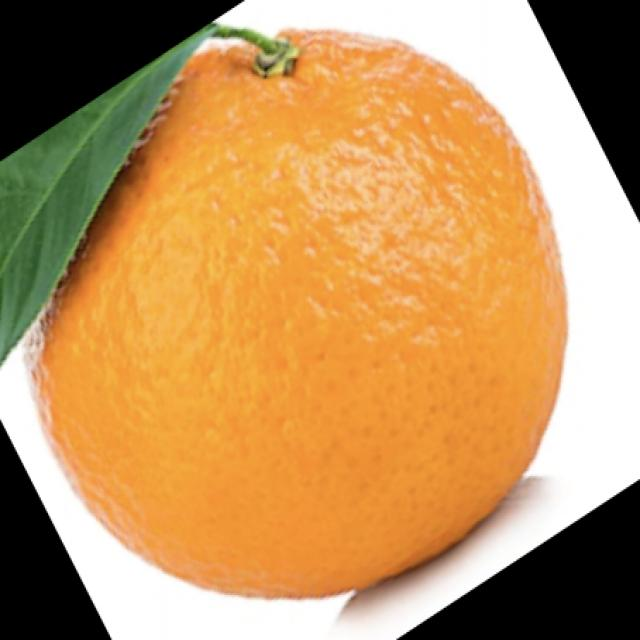fresh: (16, 7, 572, 610)
